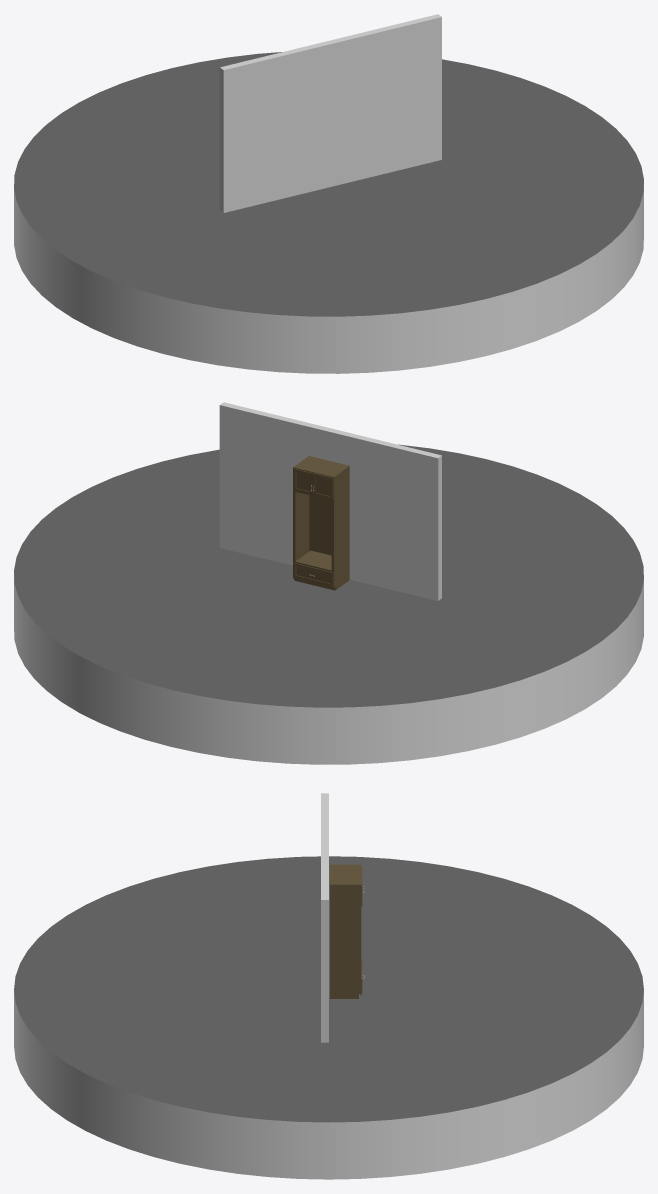
The model's file is Biome_Cabinet.glb.
3 views of the same model, one above another, from view 1: azimuth 30°, elevation 25°; view 2: azimuth 150°, elevation 25°; view 3: azimuth 270°, elevation 25° (orthographic).
Visible parts, largest first — view 1: Biome.001, Backwall.001; view 2: Biome.001, Backwall.001, CABINET - 2 DOOR 1 DRAWER - DOUBLE OVEN -BASE- [6327244].001; view 3: Biome.001, CABINET - 2 DOOR 1 DRAWER - DOUBLE OVEN -BASE- [6327244].001, Backwall.001.
Boxes of the visible parts, x1,y1,x2,y2 form: Biome.001: [14, 52, 643, 373]; Backwall.001: [219, 14, 441, 212]; Biome.001: [14, 444, 643, 764]; Backwall.001: [219, 402, 441, 600]; CABINET - 2 DOOR 1 DRAWER - DOUBLE OVEN -BASE- [6327244].001: [293, 456, 349, 590]; Biome.001: [14, 856, 643, 1179]; CABINET - 2 DOOR 1 DRAWER - DOUBLE OVEN -BASE- [6327244].001: [330, 864, 364, 998]; Backwall.001: [321, 793, 328, 1042].
Size of the model in its own units: 12.19 by 4.27 by 12.19.
